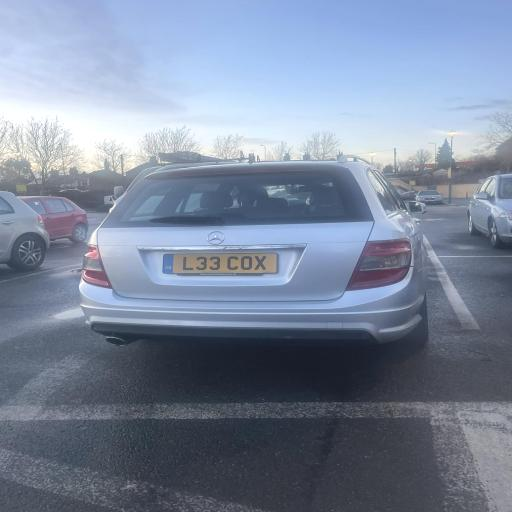numberplates: (163, 253, 277, 274)
